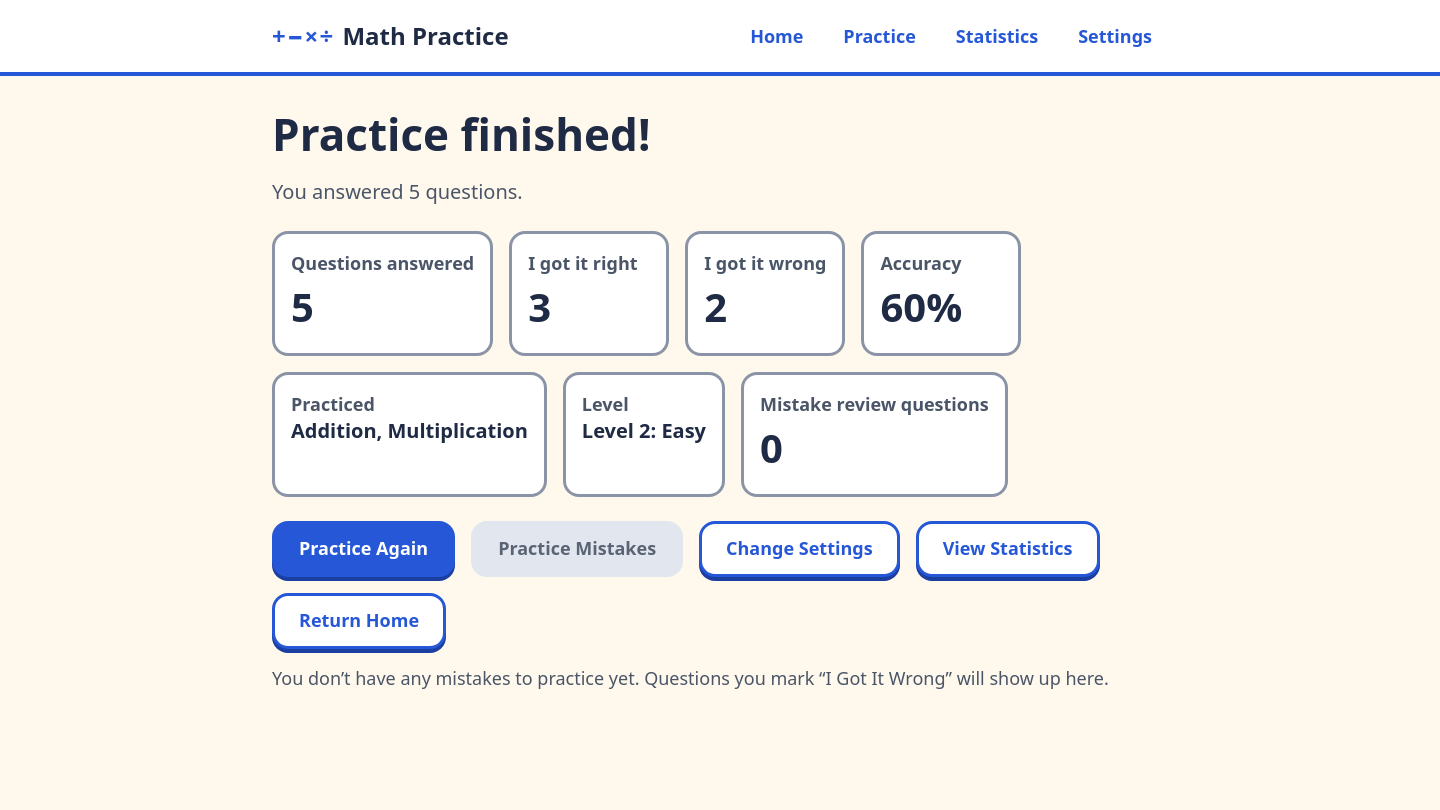
Test: summary actions › Practice Again starts a new session with the same settings
Click the button "Practice Again" at (364, 549), box x1=272 y1=521 x2=455 y2=577
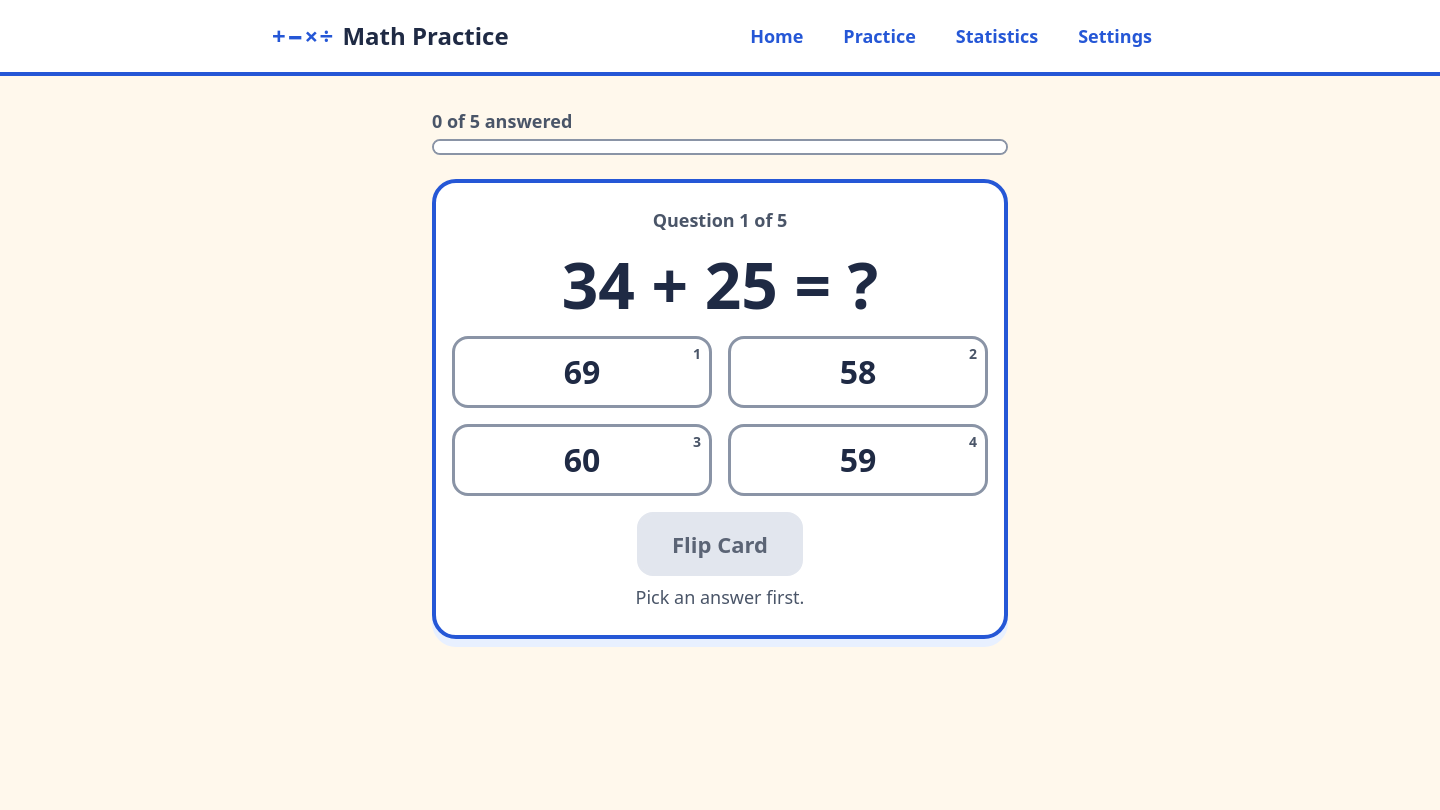
Result: the text "Question 1 of 5" is shown at x1=653 y1=207 x2=787 y2=234
